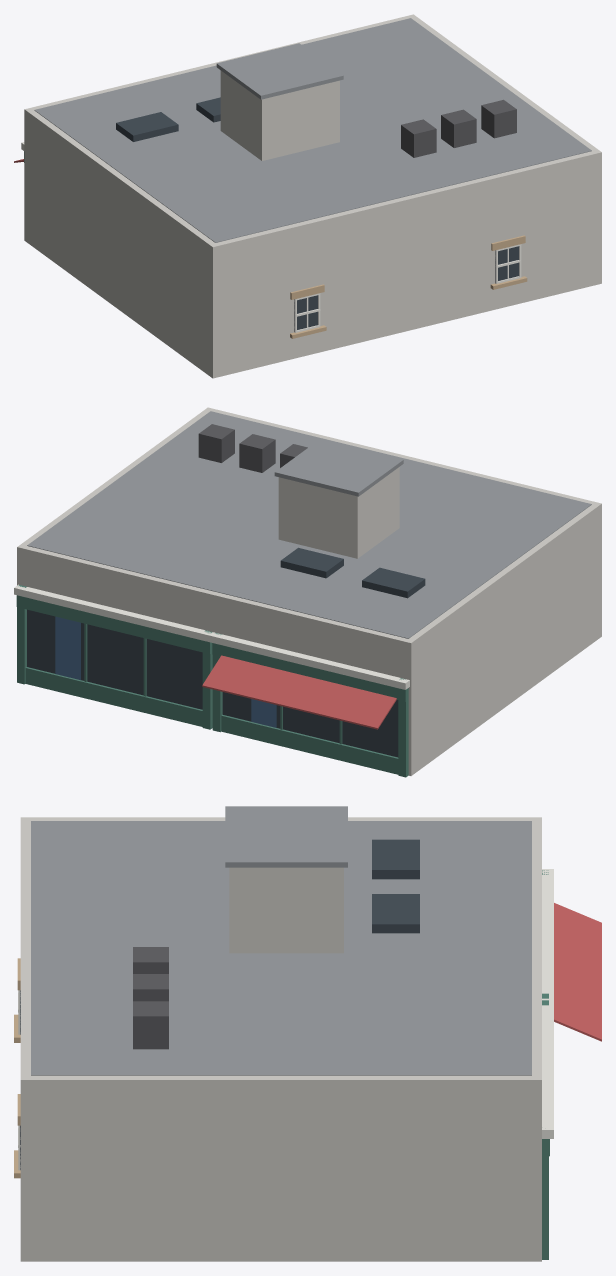
Rendered from shop1.glb.
The picture shows the model from 3 angles, top to bottom: view 1: azimuth 30°, elevation 25°; view 2: azimuth 150°, elevation 25°; view 3: azimuth 270°, elevation 25°; orthographic projection. The views are drawn at different scales.
Parts seen in each view (by area): view 1: shop1; view 2: shop1; view 3: shop1.
Boxes of the visible parts, <box> form: shop1: <box>14,14,601,378</box>; shop1: <box>14,407,601,777</box>; shop1: <box>14,806,601,1261</box>.
Bounding box in the file's own units: 15.5 × 7.57 × 14.67.
